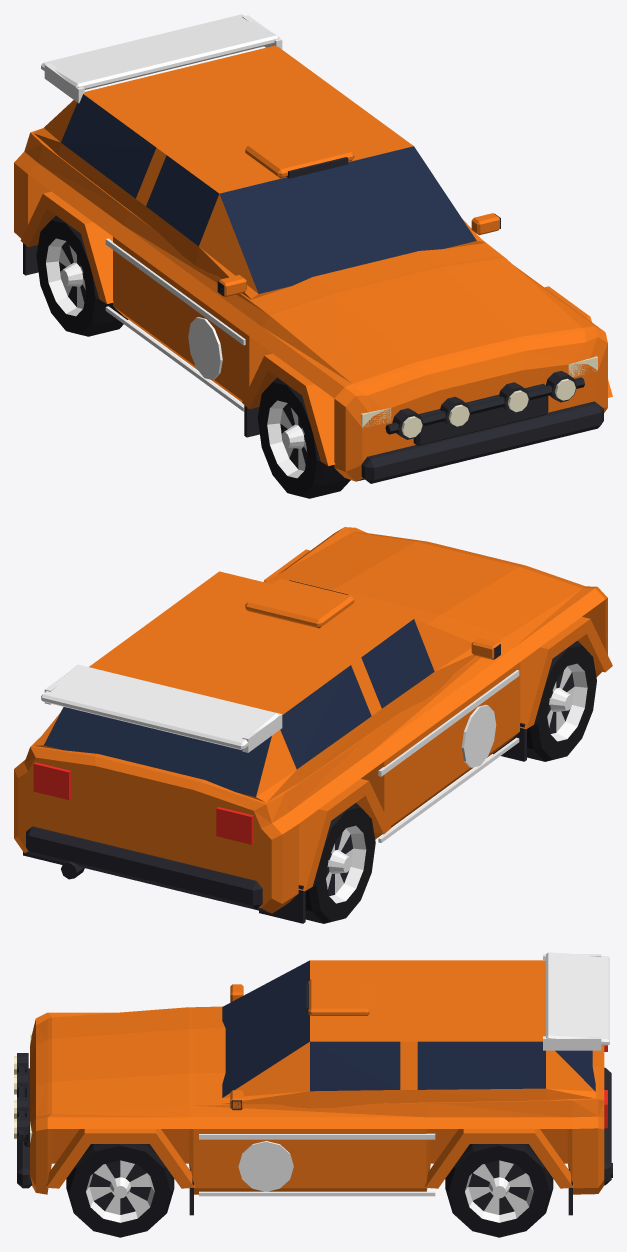
The model's file is Car_tango.fbx.
3 renders of one model, top to bottom at view 1: azimuth 30°, elevation 25°; view 2: azimuth 150°, elevation 25°; view 3: azimuth 270°, elevation 25°, orthographic. The views are drawn at different scales.
Visible parts, largest first — view 1: Body, Wheel_FL, Wheel_RL; view 2: Body, Wheel_RL, Wheel_FL; view 3: Body, Wheel_FR, Wheel_RR.
Boxes of the visible parts, x1=… form: Body: x1=14, y1=14, x2=612, y2=483; Wheel_FL: x1=257, y1=377, x2=350, y2=498; Wheel_RL: x1=36, y1=215, x2=127, y2=336; Body: x1=14, y1=527, x2=612, y2=923; Wheel_RL: x1=305, y1=803, x2=375, y2=923; Wheel_FL: x1=527, y1=641, x2=596, y2=761; Body: x1=14, y1=952, x2=612, y2=1215; Wheel_FR: x1=66, y1=1144, x2=174, y2=1237; Wheel_RR: x1=445, y1=1144, x2=553, y2=1237.
Size of what is drawn, in the model's own units: 1.93 by 1.42 by 4.11.
